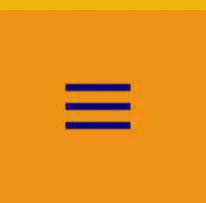ImgButton: (1, 1, 205, 202)
